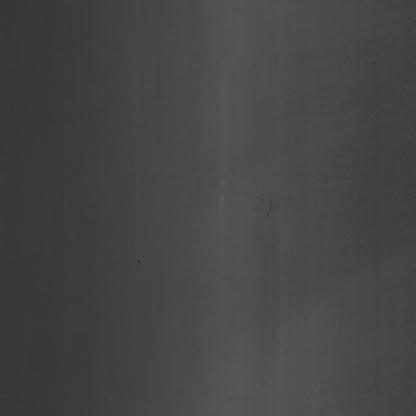inclusion: (258, 193, 278, 227), (133, 254, 144, 277)
